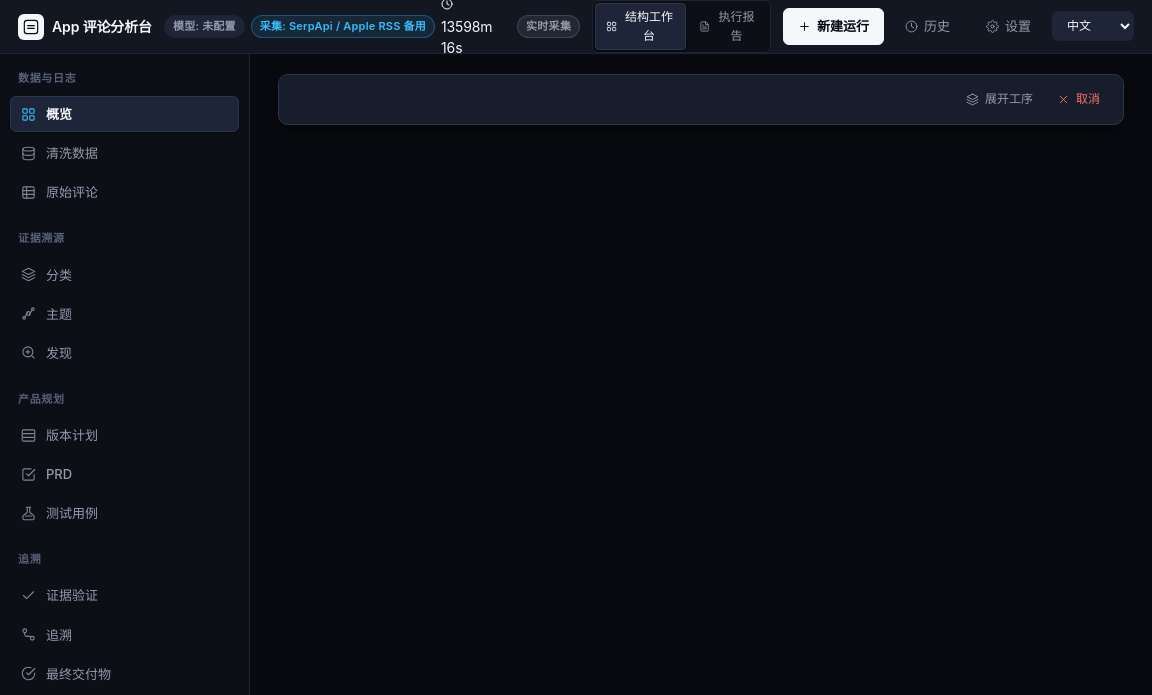
it: Workbench settings integration › keeps the cancellation dialog and current task when abort is rejected
The width and height of the screenshot is (1152, 695).
Click the button "取消" at (1078, 99), box [1048, 85, 1109, 114]
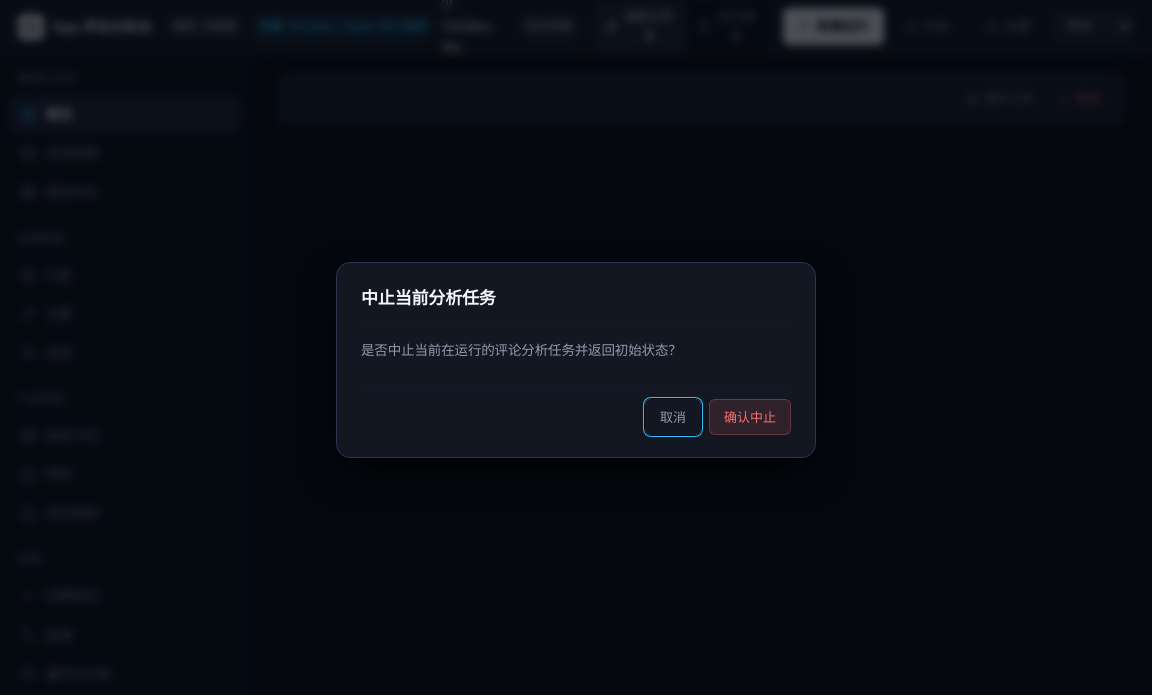
Click the button "确认中止" at (750, 417), box [709, 399, 791, 435]
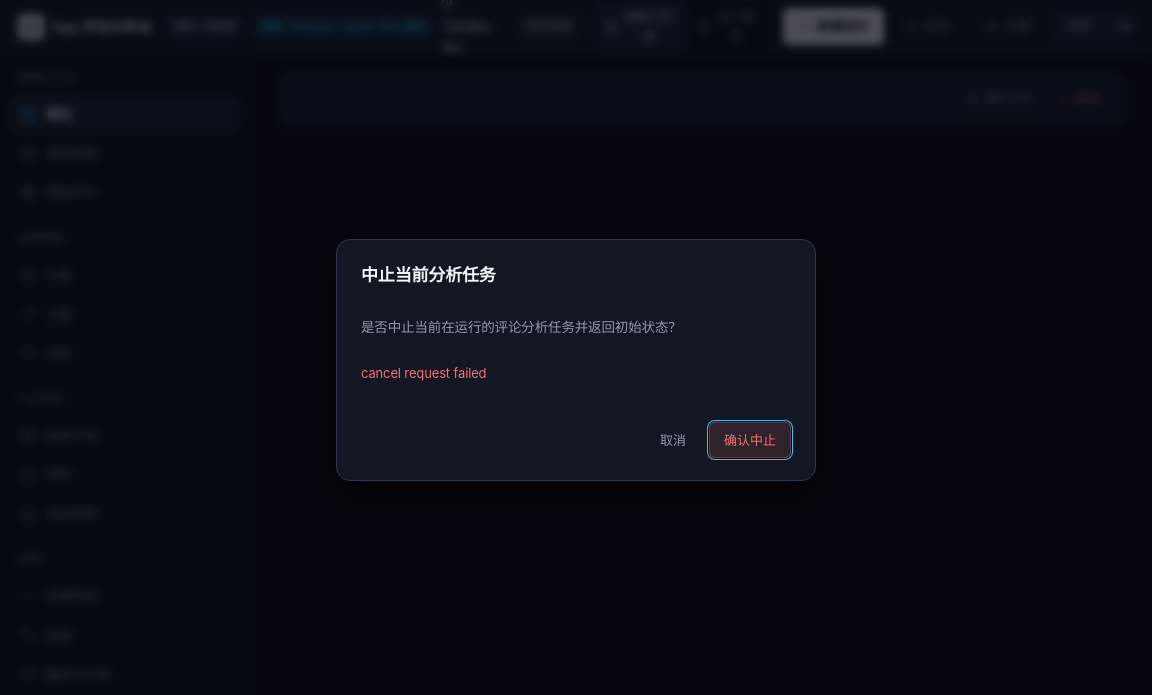
Check: the dialog is shown, box [336, 239, 816, 482]
Check: the button "取消" is shown, box [645, 422, 701, 458]
Check: the text "cancel request failed" is shown, box [361, 365, 486, 381]
